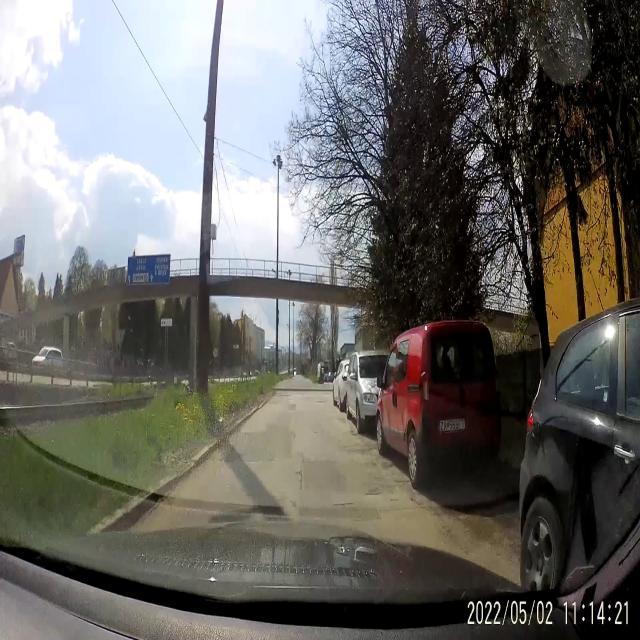Pothole: (292, 464, 306, 490), (364, 482, 384, 499), (408, 493, 426, 511), (240, 455, 260, 469), (330, 502, 358, 509), (266, 453, 280, 466), (315, 396, 328, 407), (395, 476, 410, 485), (388, 496, 401, 504)
